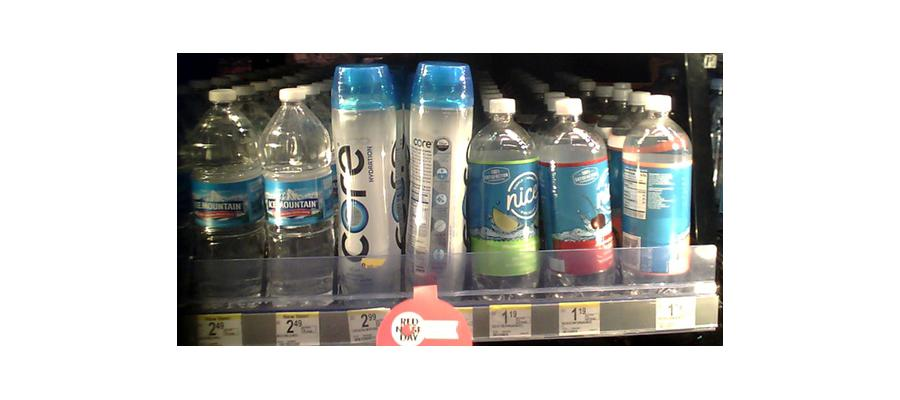bottle: (331, 61, 402, 300), (190, 89, 263, 309), (262, 83, 333, 305), (403, 62, 469, 296), (617, 87, 693, 289), (539, 90, 612, 293), (470, 93, 538, 296)
